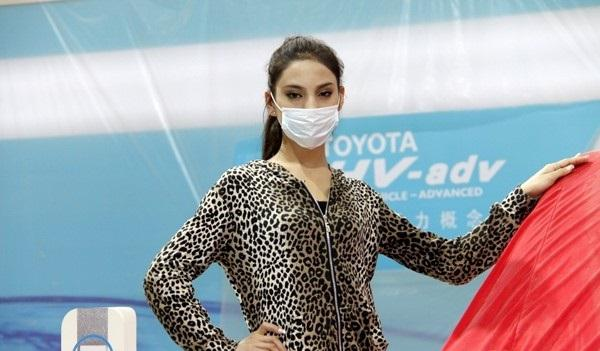OK: (275, 79, 342, 146)
